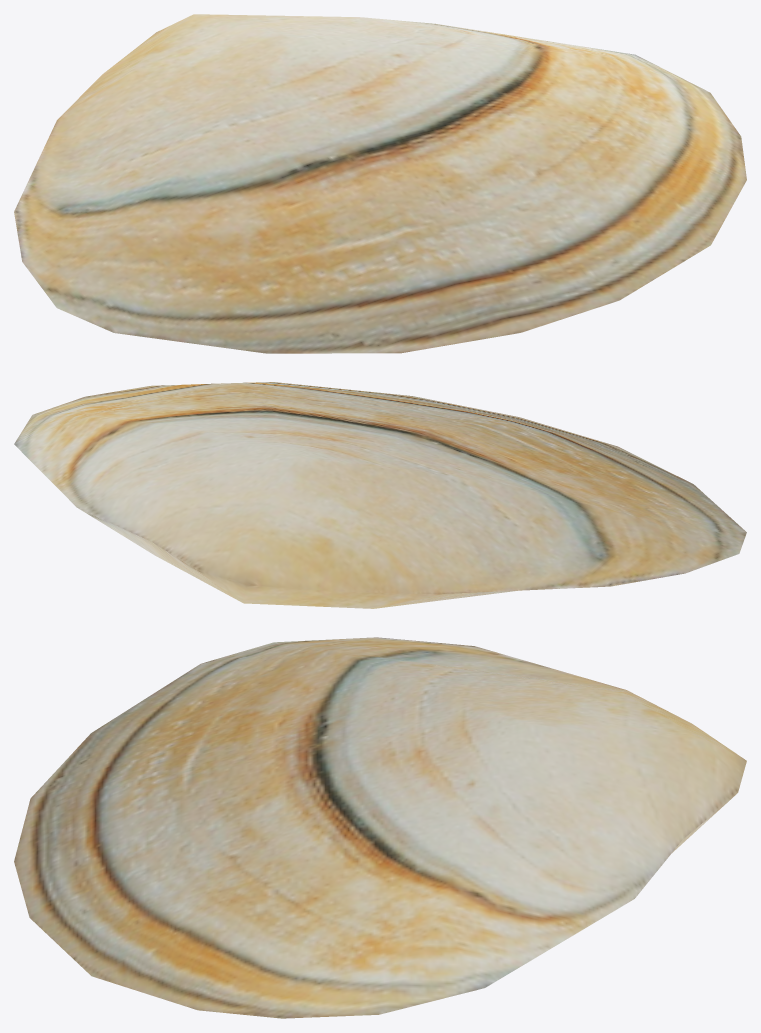
Rendered from SeaShell-02_LOD0_FattooCreater.glb.
3 renders of one model, top to bottom at view 1: azimuth 30°, elevation 25°; view 2: azimuth 150°, elevation 25°; view 3: azimuth 270°, elevation 25°, orthographic. The views are drawn at different scales.
Visible parts, largest first — view 1: SeaShell-02_high; view 2: SeaShell-02_high; view 3: SeaShell-02_high.
Part boxes in pixels (x1,y1,x2,y2): SeaShell-02_high: (14,14,746,353); SeaShell-02_high: (14,382,746,608); SeaShell-02_high: (14,637,746,1018).
Size of the model in its own units: 0.0229 by 0.00474 by 0.0185.
1 material, 1 textured.
